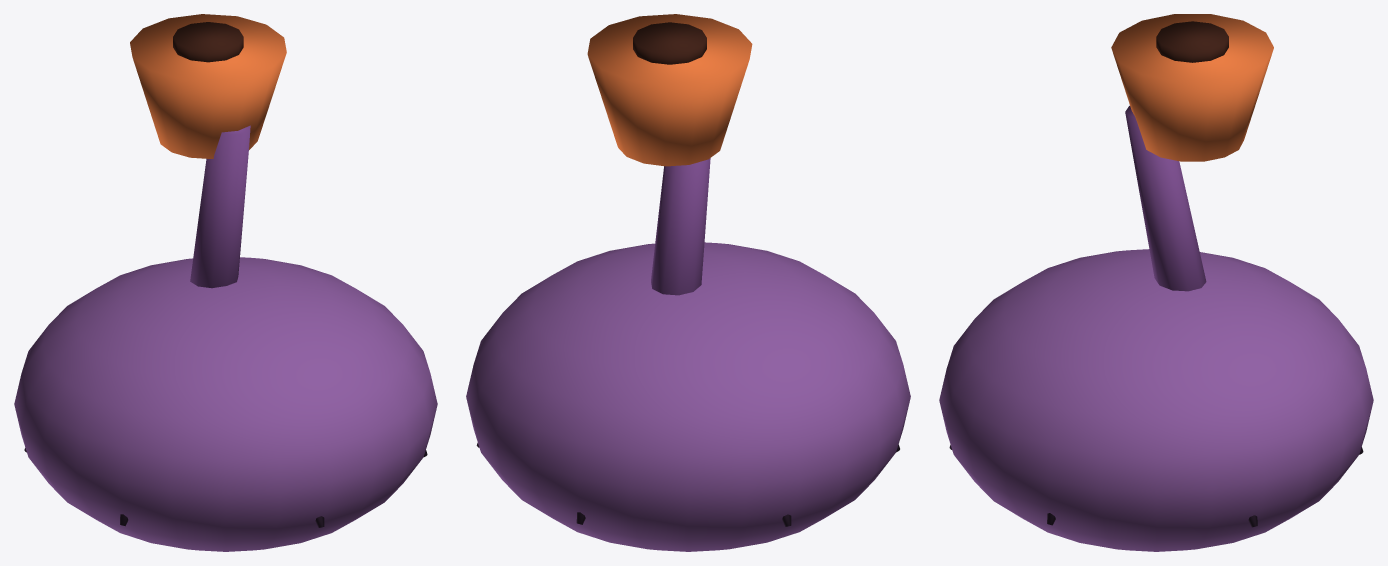
File: b_spore_crawler.glb
3 views of the same model, side by side, from view 1: azimuth 30°, elevation 25°; view 2: azimuth 150°, elevation 25°; view 3: azimuth 270°, elevation 25° (orthographic). The views are drawn at different scales.
Parts seen in each view (by area): view 1: so_base.001, so_maw.001, so_neck.001, so_in.001; view 2: so_base.001, so_maw.001, so_neck.001, so_in.001; view 3: so_base.001, so_maw.001, so_neck.001, so_in.001.
Boxes of the visible parts, x1,y1,x2,y2 form: so_base.001: (14,257,437,551); so_maw.001: (130,14,286,158); so_neck.001: (190,125,250,288); so_in.001: (173,22,243,62); so_base.001: (466,242,910,551); so_maw.001: (587,14,752,166); so_neck.001: (651,158,710,295); so_in.001: (633,22,706,64); so_base.001: (939,249,1373,551); so_maw.001: (1111,14,1273,161); so_neck.001: (1125,105,1206,291); so_in.001: (1156,21,1228,62).
Bounding box in the file's own units: 1.44 × 1.78 × 1.44.
